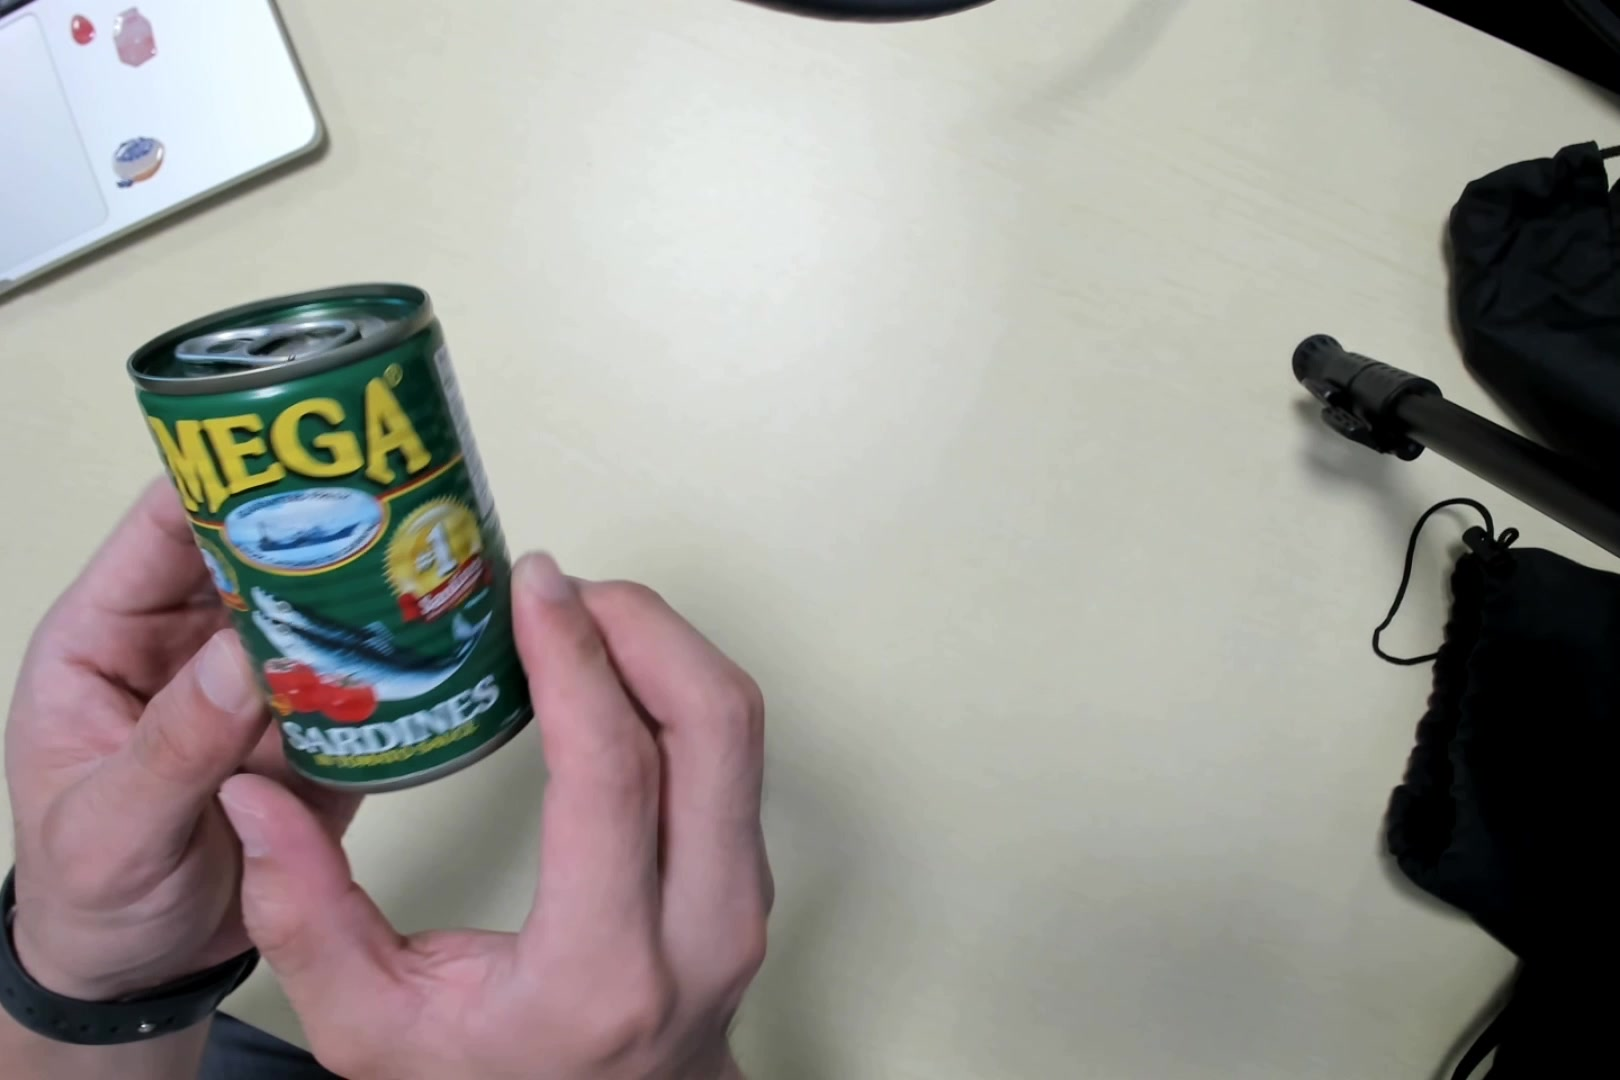CannedSardingMackerel_100-199g_NonHalal_NonHealthy: (127, 276, 529, 780)
